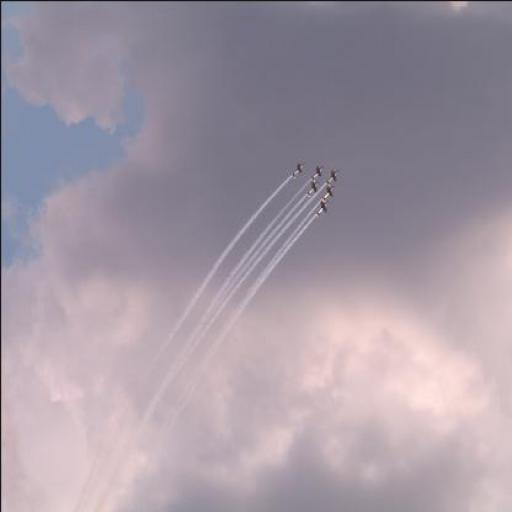aircraft: (289, 161, 304, 181), (314, 200, 327, 222), (324, 168, 338, 186), (320, 184, 335, 200), (304, 180, 318, 197), (309, 164, 322, 181)
